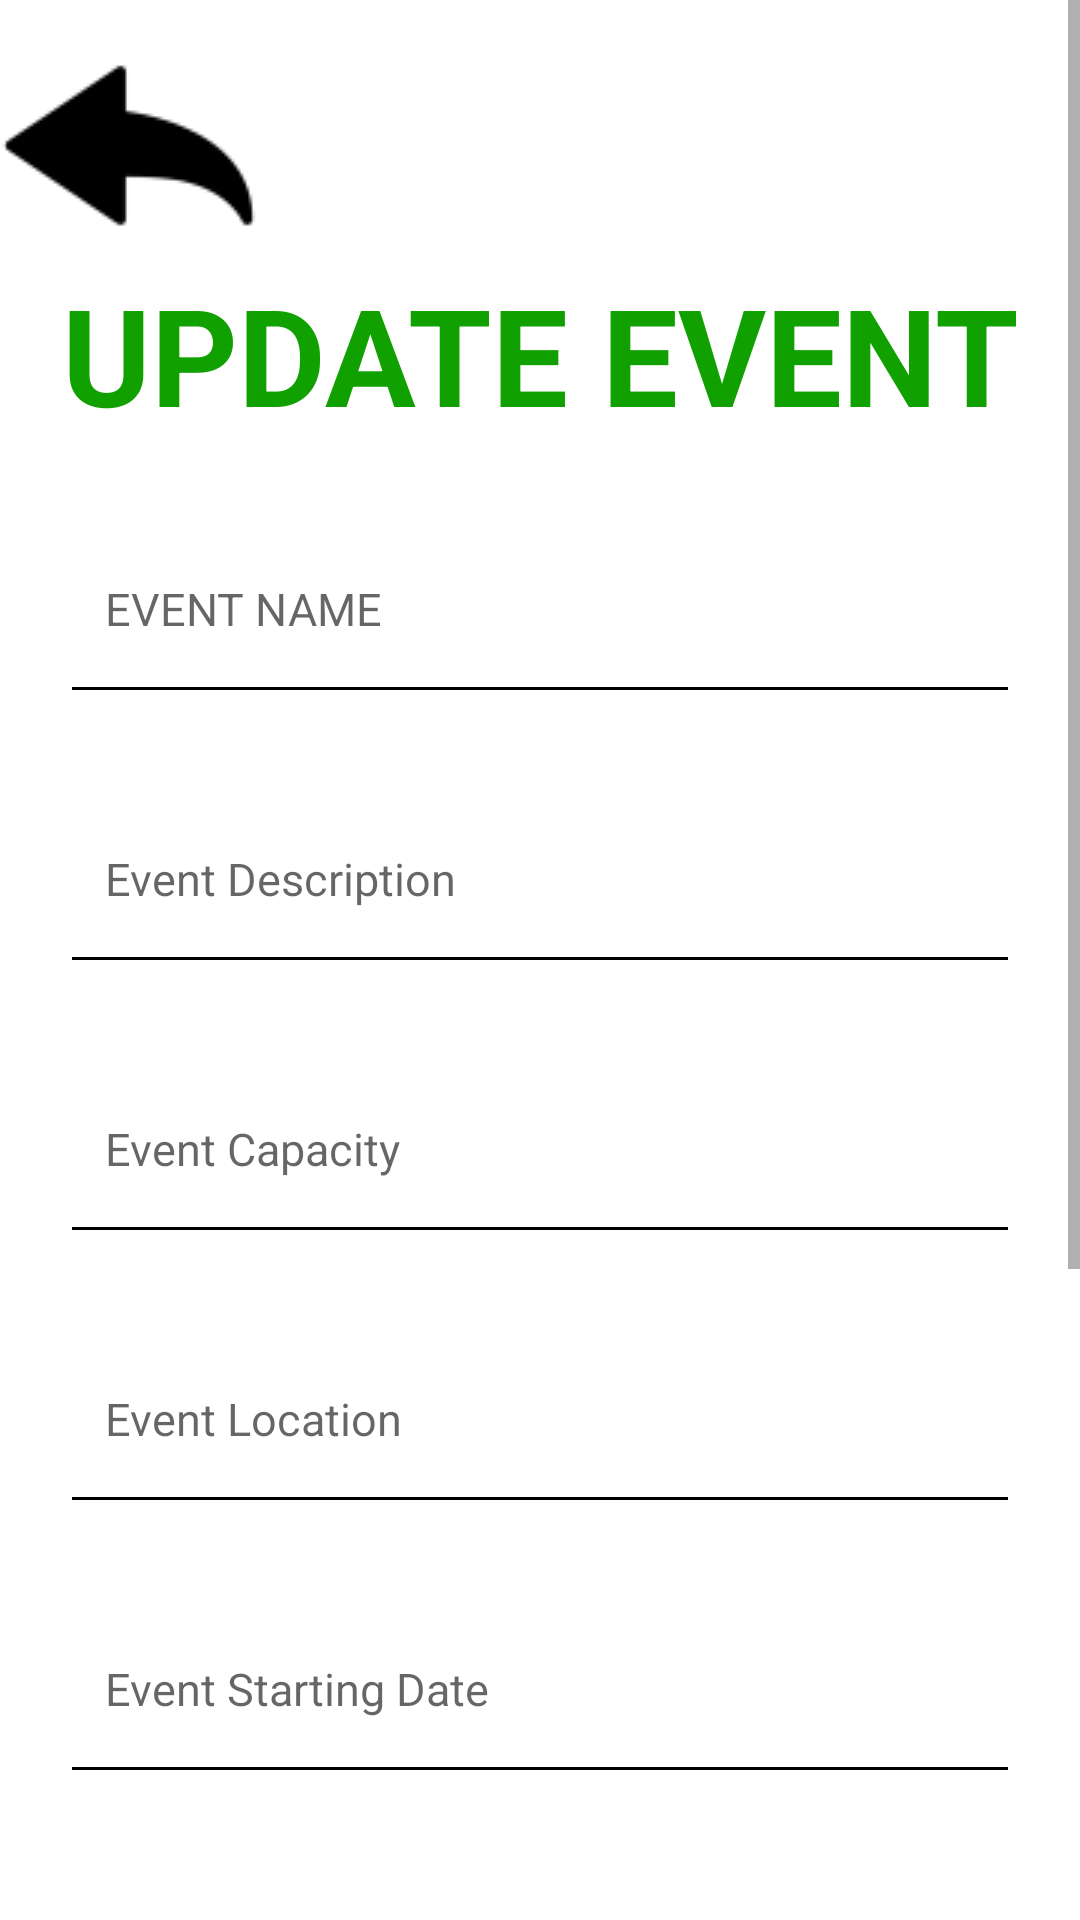

Locate icon controls on the screen. Image size 1080 x 1920, boxes as (x1, y1, x2, y2).
back arrow image: (4, 65, 255, 226)
